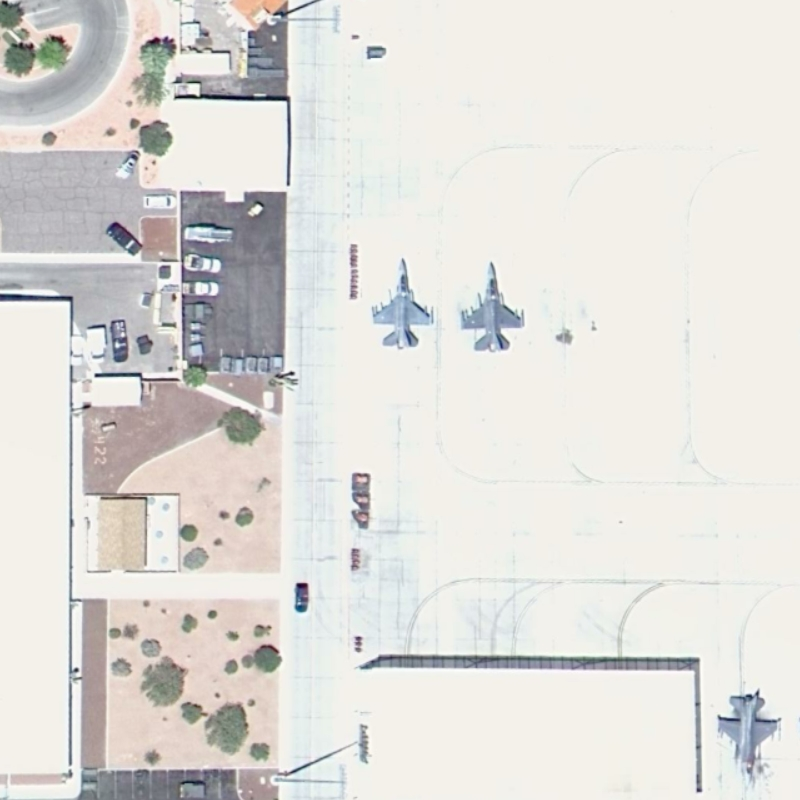A5: (708, 688, 785, 791), (454, 257, 529, 356), (371, 252, 441, 353)
